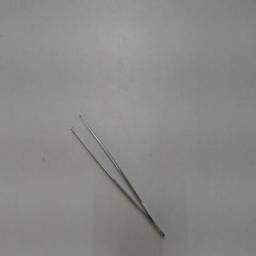Gillies Toothed Dissector: (65, 106, 167, 242)
